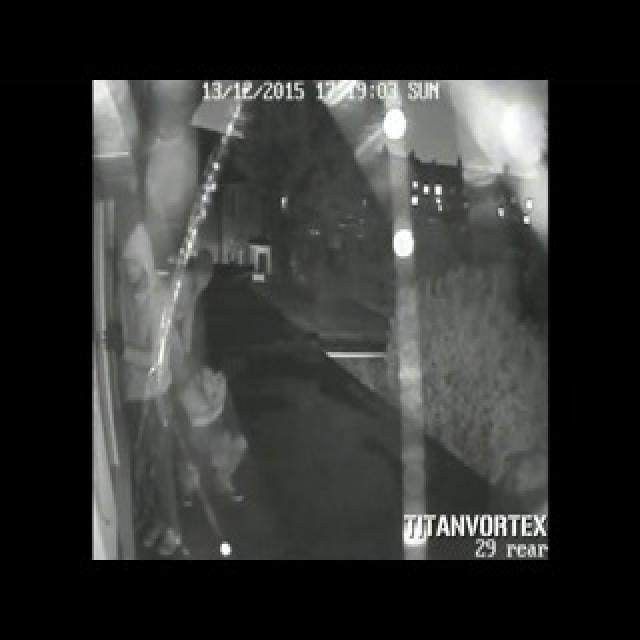thief: (110, 225, 166, 304), (191, 343, 233, 427), (186, 239, 224, 304)
